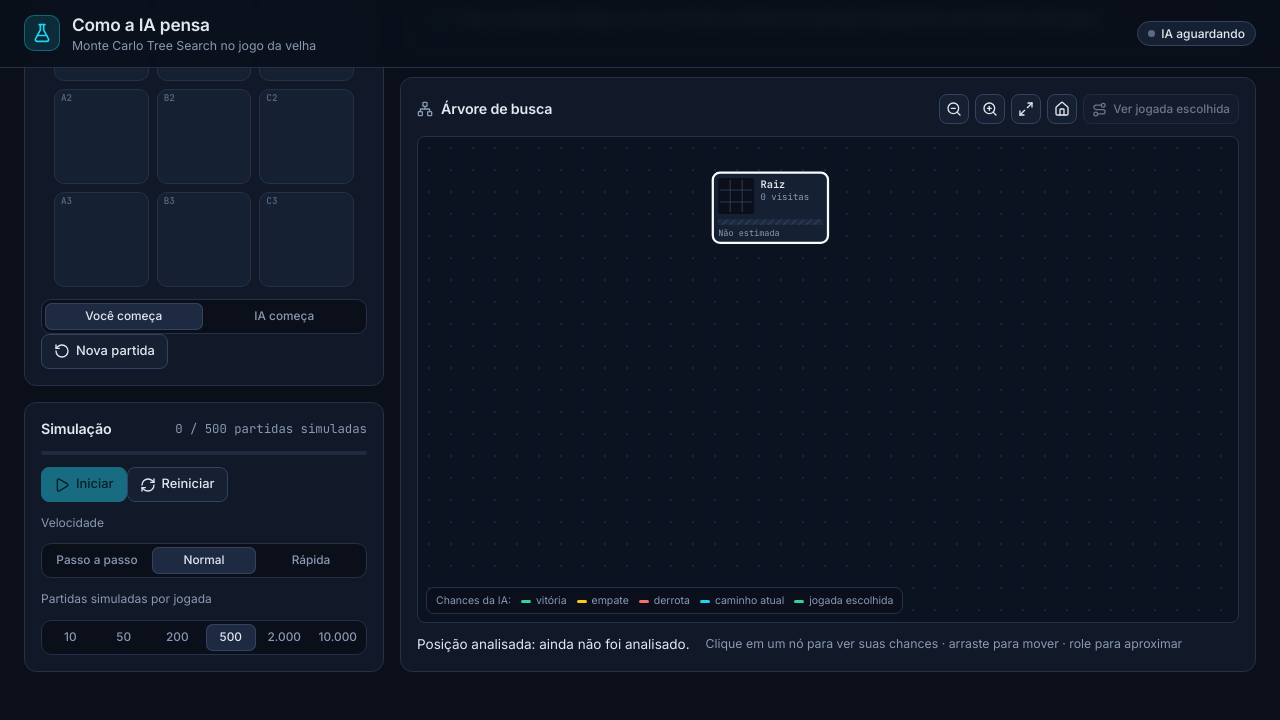
Test: the number of simulated games can be changed
(page scrolled)
Expected: the text "0 / 500 partidas simuladas" is shown, [175,420,367,438]
Click the radio button labelled "2.000" at {"x": 284, "y": 637}, box [259,624,310,651]
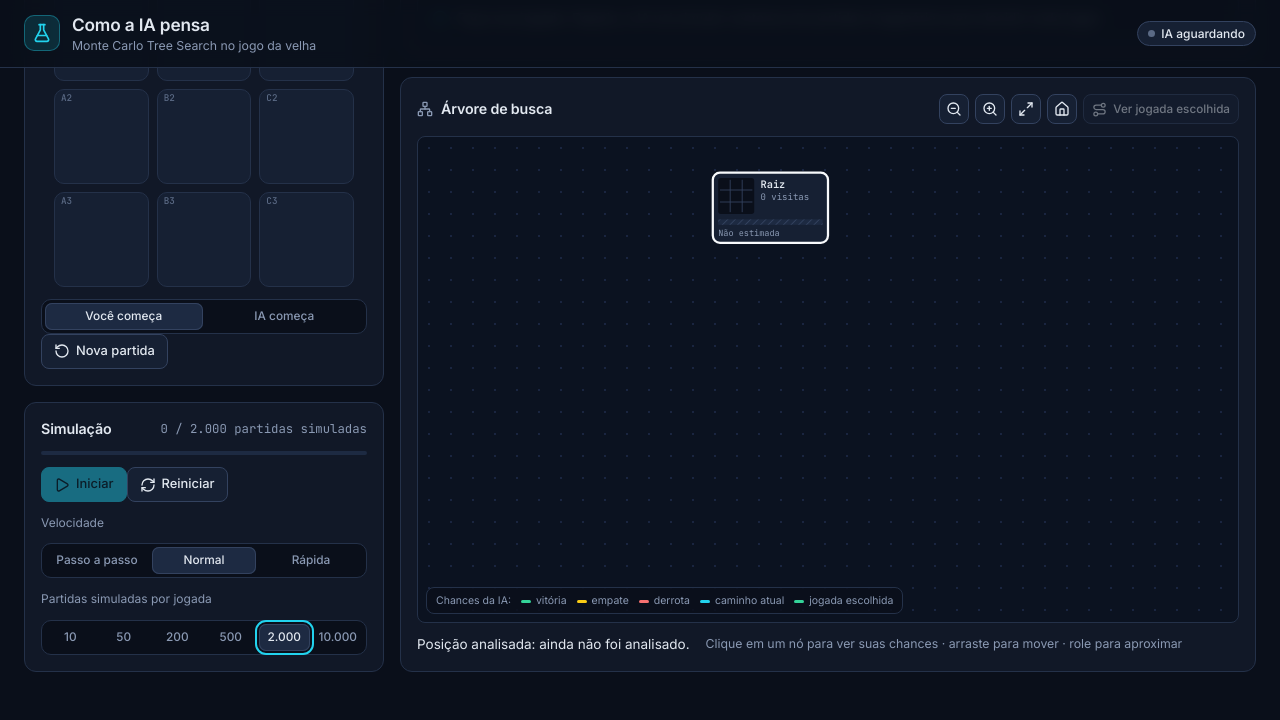
Now the text "0 / 2.000 partidas simuladas" is shown, box [160,420,367,438]
